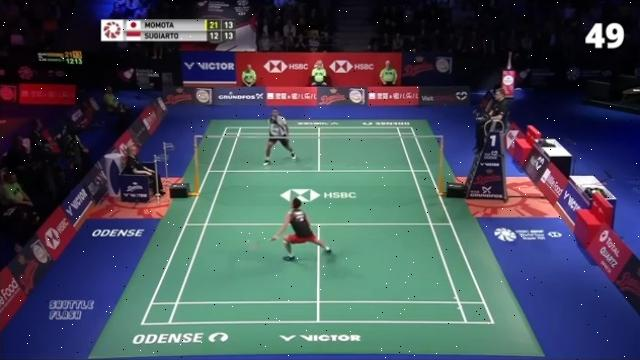Shuttlecock: (228, 91, 235, 96)
